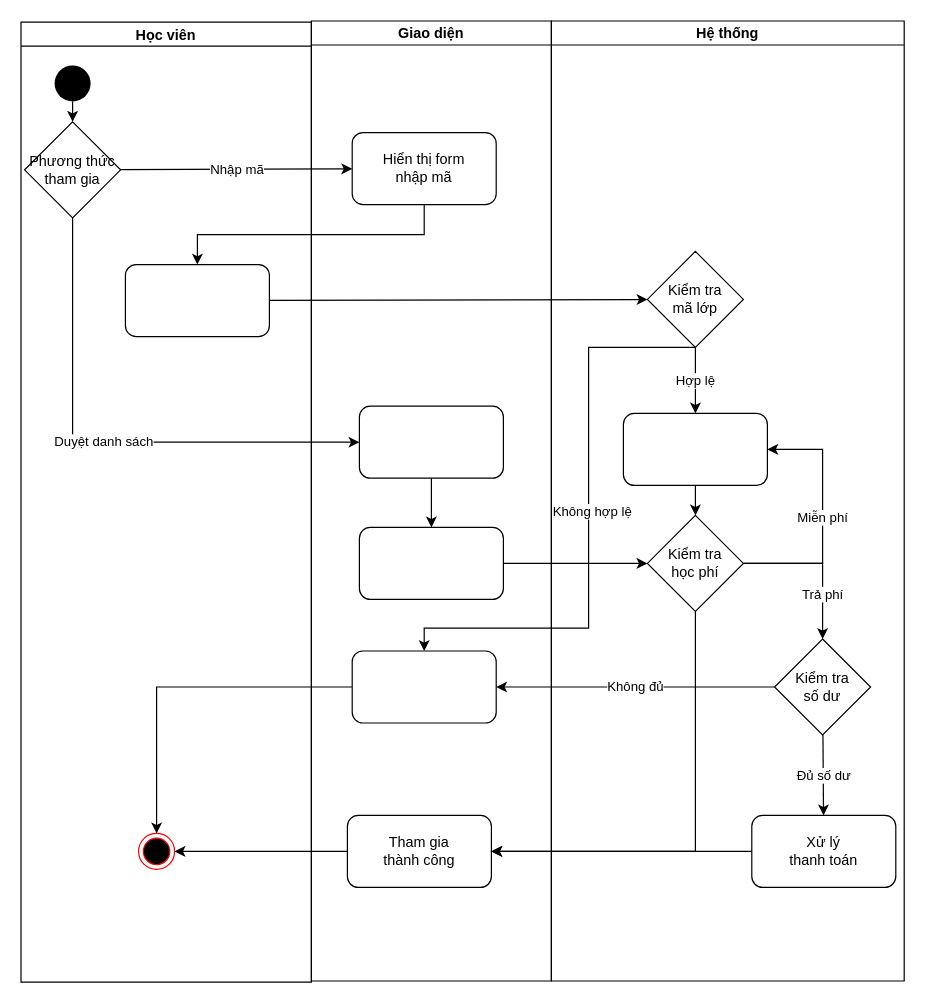
Some shapes in this 925 by 1003 pixel diagram are drawn without their labels. The centre of each missing label's shape, as x and y in pixels:
Hiển thị danh sách lớp học: [430,441]
Hiển thị giới thiệu lớp học: [430,562]
Nhập mã lớp học: [196,300]
Thêm vào lớp học: [694,448]
Thông báo lỗi: [423,686]
